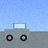vehicle: (4, 23, 29, 41)
